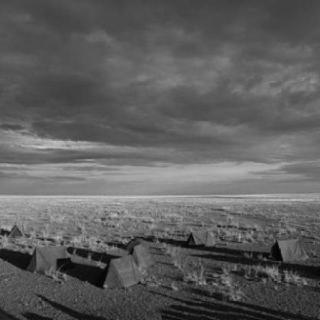Nimbostratus: (0, 0, 320, 198)
